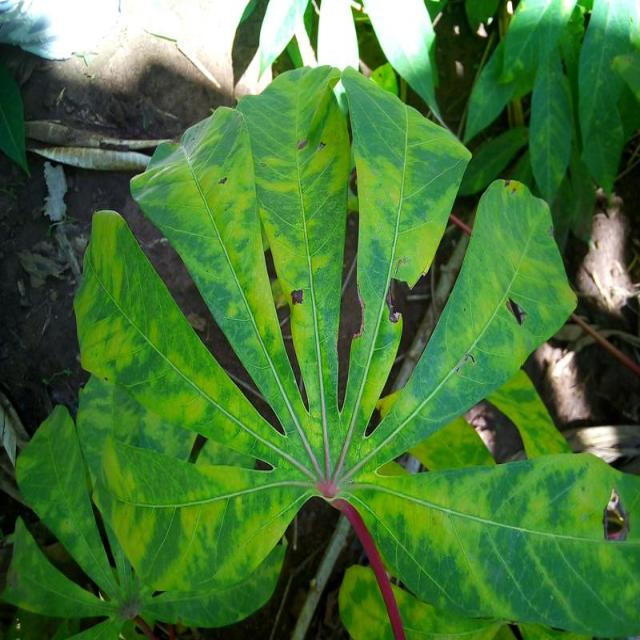cassava leaf: (13, 61, 638, 637)
